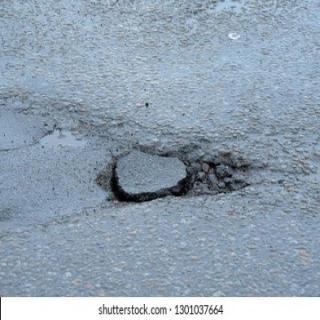pothole: (96, 144, 264, 202)
